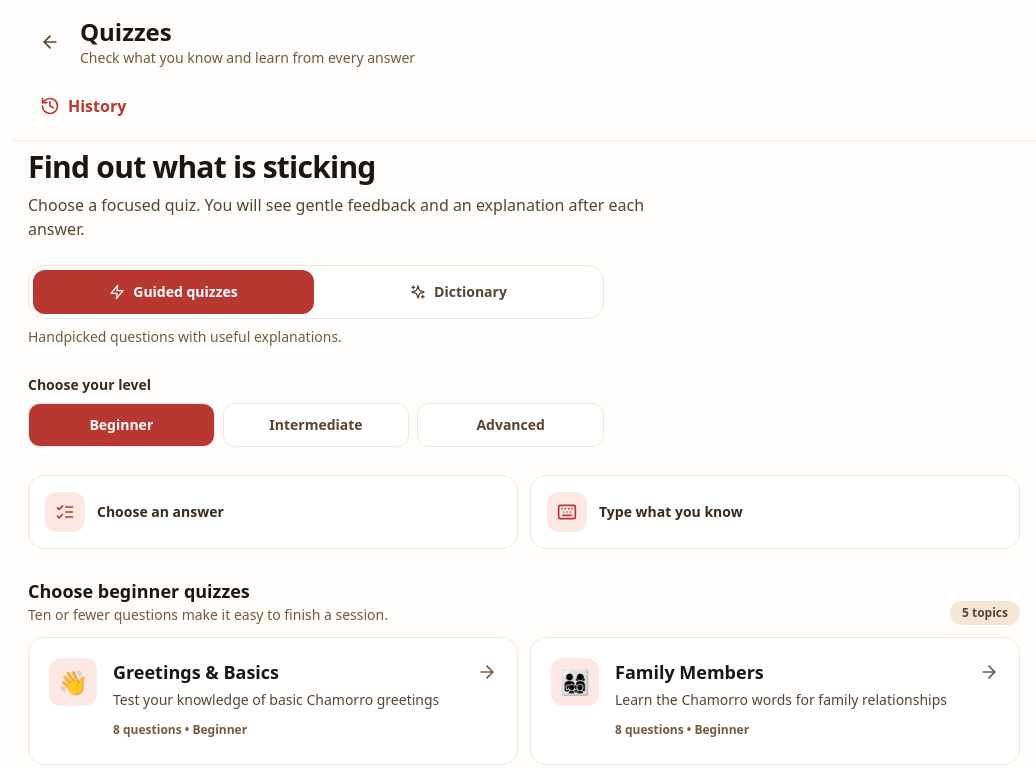
practice entry pages › starts quizzes at a manageable level and keeps every level available
The width and height of the screenshot is (1036, 768).
(page scrolled)
Click the button "Advanced" at x=511, y=425, box x1=417 y1=403 x2=604 y2=447
(page scrolled)
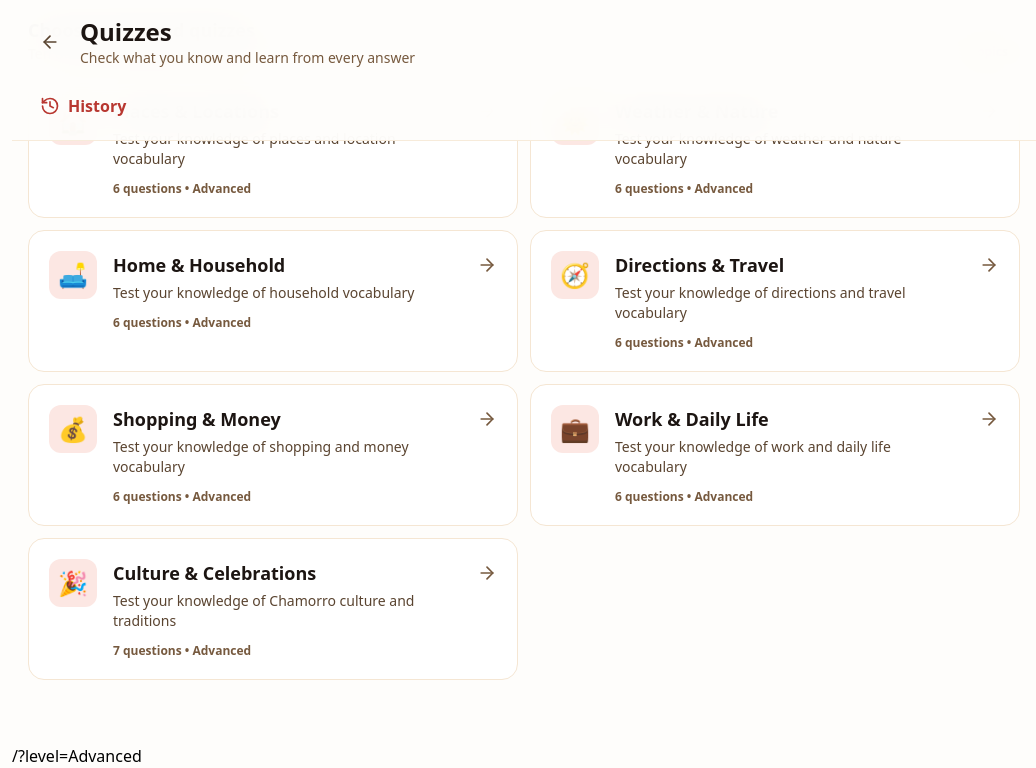
Expected: the heading "Choose advanced quizzes" is shown, x1=28 y1=18 x2=255 y2=42
Expected: the text with test id "location" reads "/?level=Advanced", x1=12 y1=745 x2=142 y2=767
